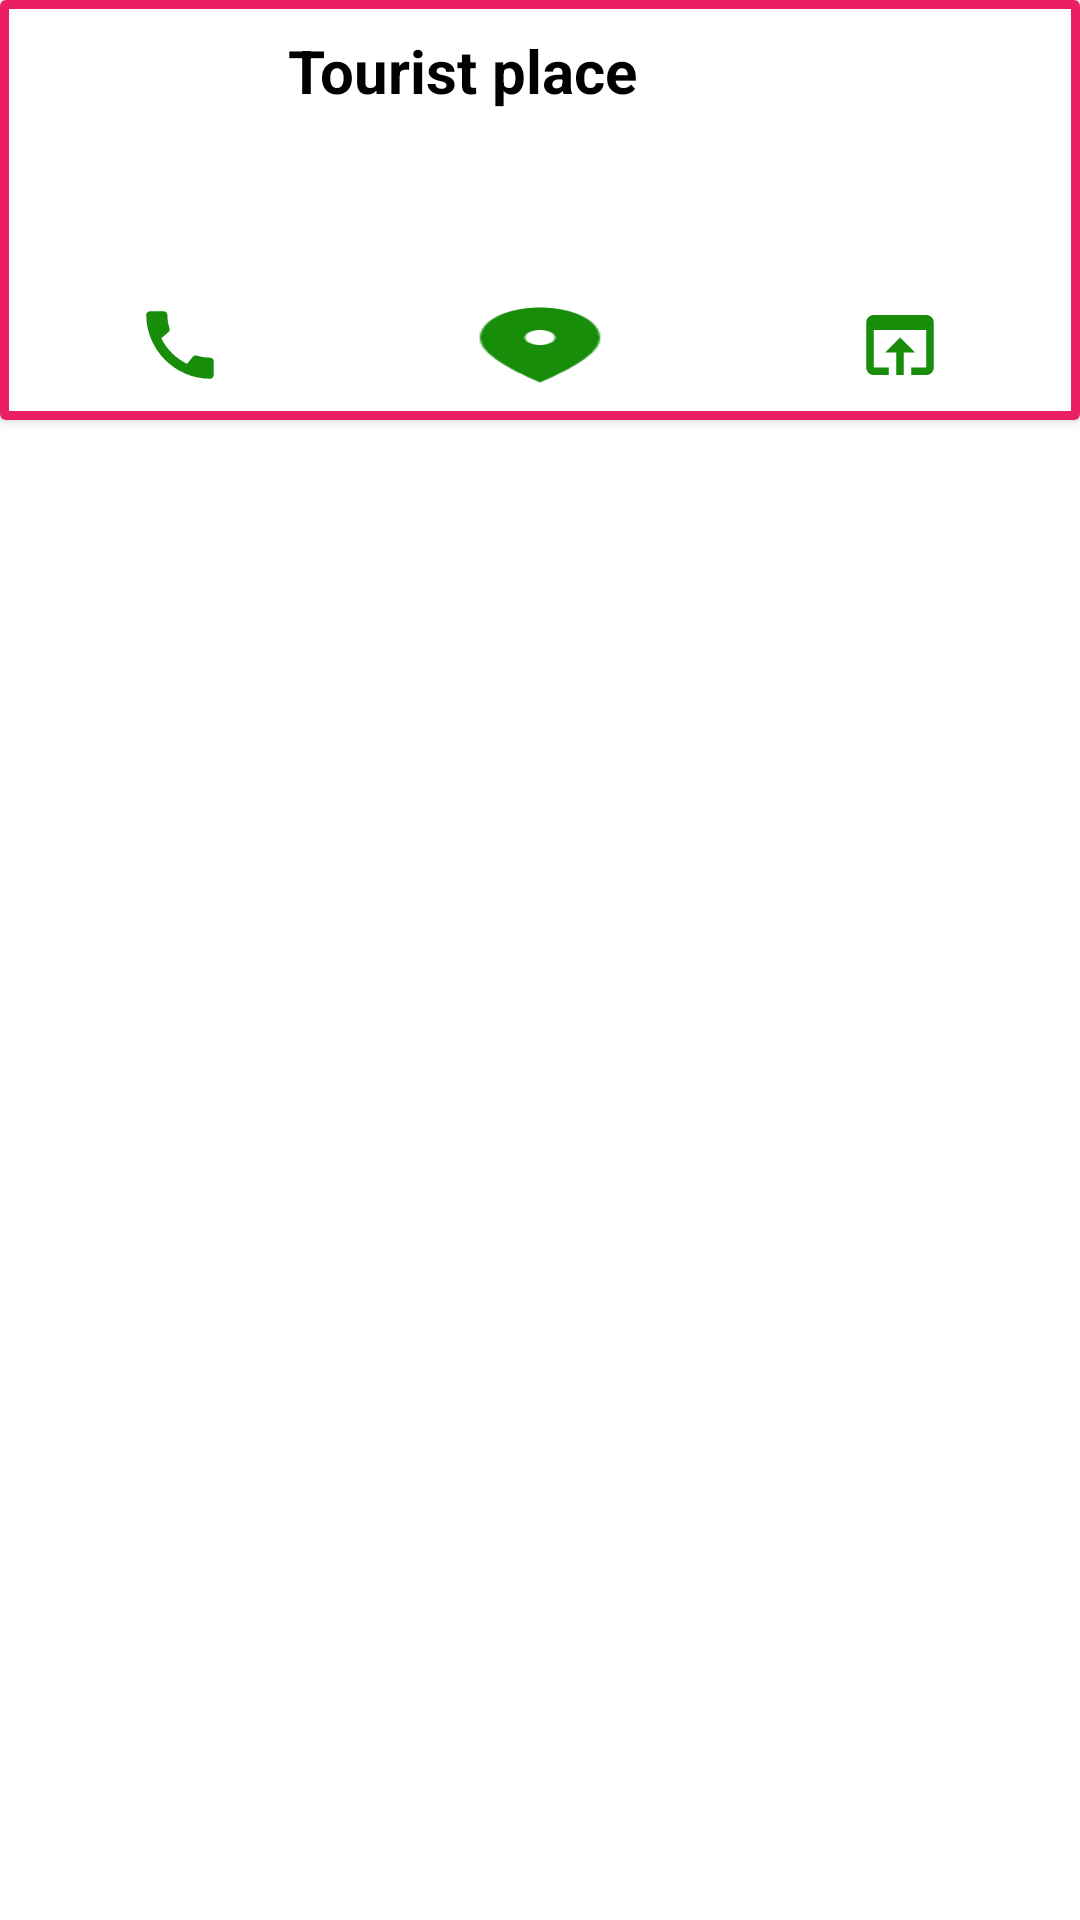

Named icons in this screenshot (1080px×1920px) and their bounding boxes, detection(x1, y1, x2, y2):
call: detection(146, 311, 214, 379)
open in browser: detection(866, 315, 934, 375)
